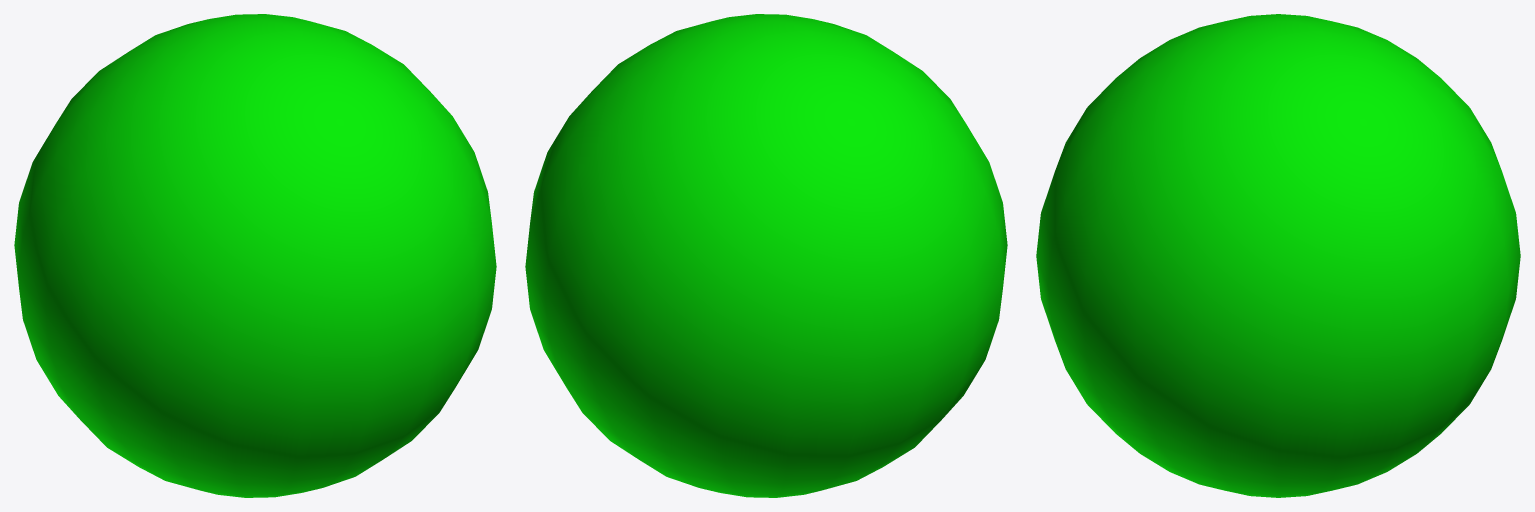
The model's file is Continue.fbx.
The picture shows the model from 3 angles, left to right: view 1: azimuth 30°, elevation 25°; view 2: azimuth 150°, elevation 25°; view 3: azimuth 270°, elevation 25°; orthographic projection.
Visible parts, largest first — view 1: pSphere1; view 2: pSphere1; view 3: pSphere1.
Part boxes in pixels (left/top/right/bottom): pSphere1: left=14, top=14, right=496, bottom=497; pSphere1: left=525, top=14, right=1007, bottom=497; pSphere1: left=1036, top=14, right=1520, bottom=497.
Bounding box in the file's own units: 0.4674 × 0.4674 × 0.4674.
